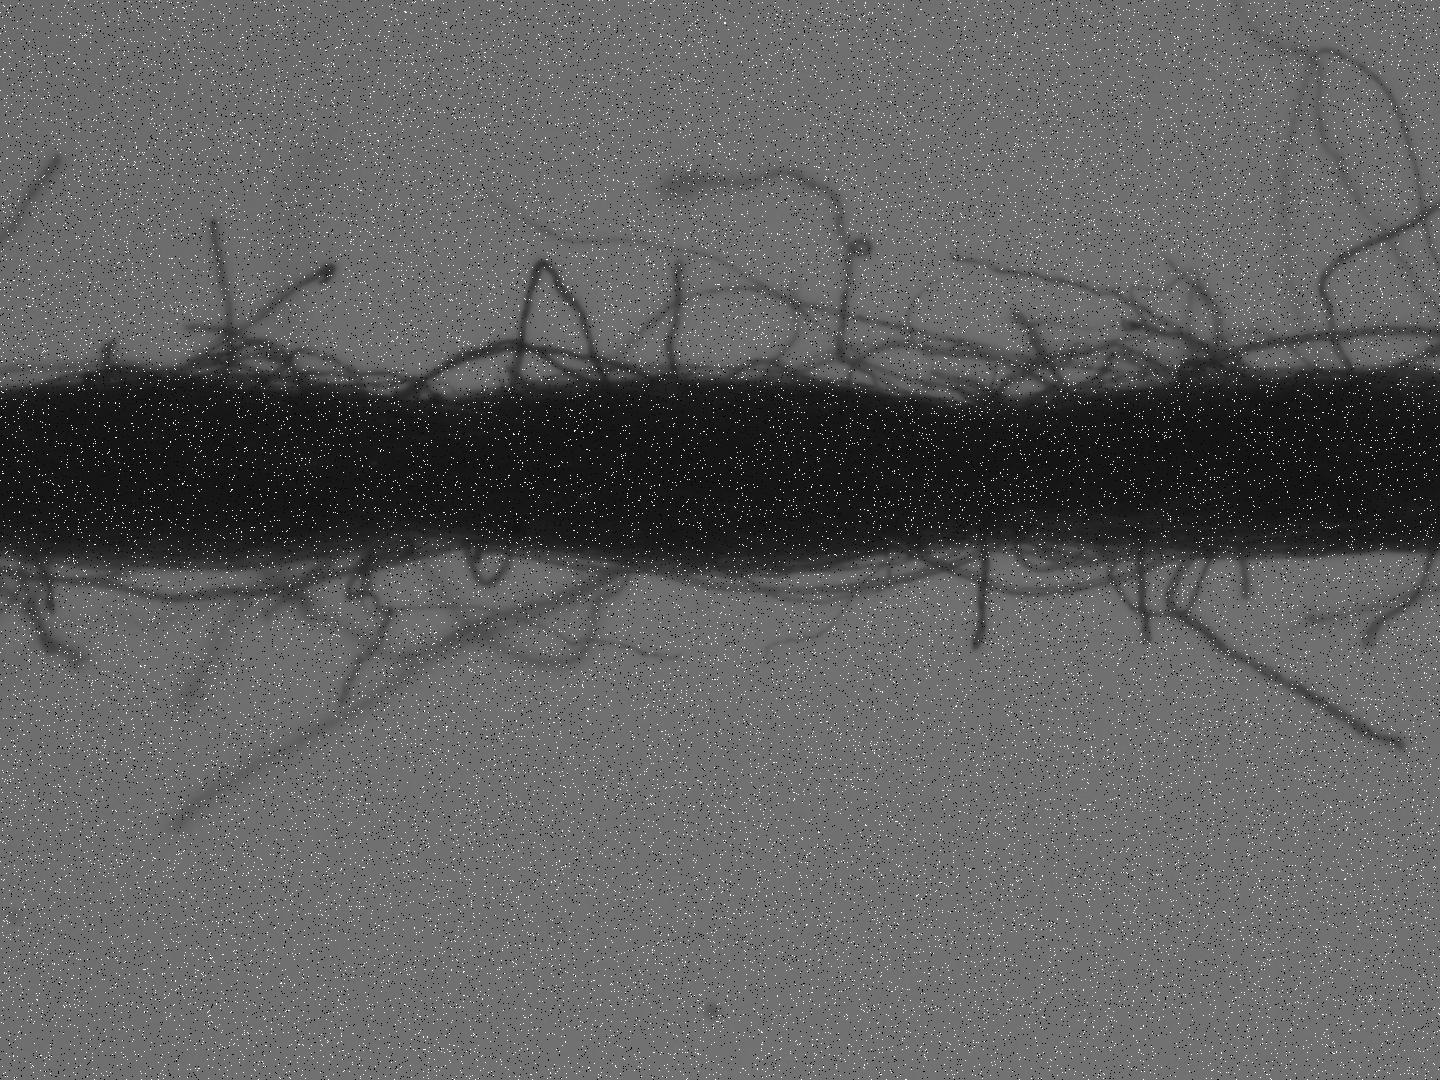loop_fiber: (742, 525, 1008, 602), (845, 336, 1104, 413), (501, 254, 625, 405), (372, 337, 599, 407), (129, 334, 294, 412), (1106, 528, 1234, 623), (286, 340, 373, 405), (452, 530, 524, 592), (721, 353, 828, 391), (1170, 356, 1262, 393)
protruding_fiber: (663, 251, 689, 395)
